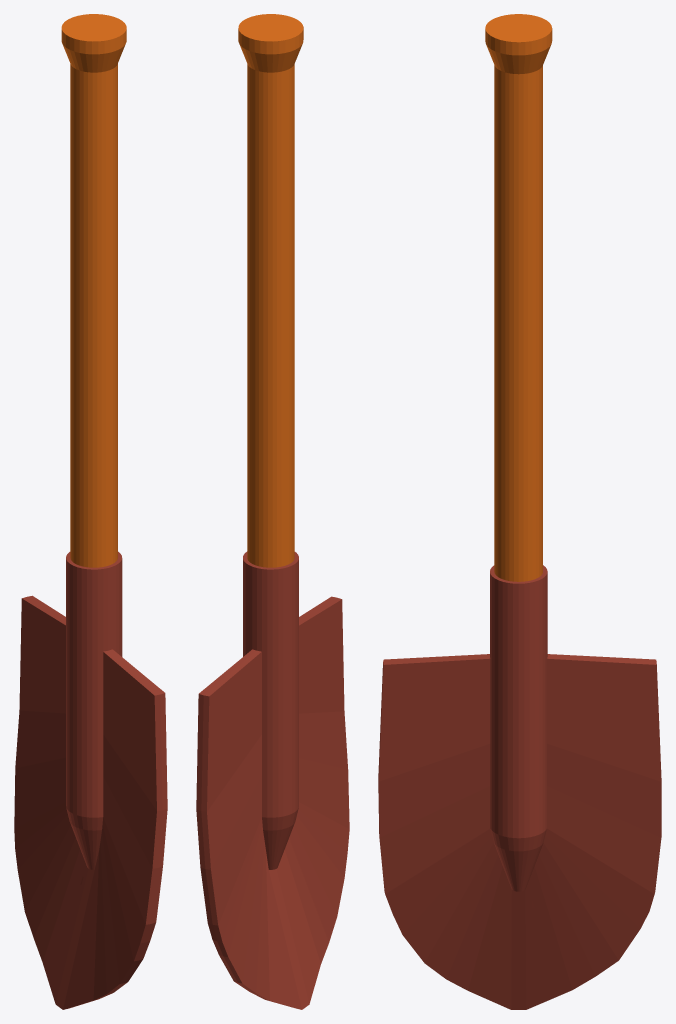
The model's file is pala.fbx.
The picture shows the model from 3 angles, left to right: view 1: azimuth 30°, elevation 25°; view 2: azimuth 150°, elevation 25°; view 3: azimuth 270°, elevation 25°; orthographic projection. The views are drawn at different scales.
Visible parts, largest first — view 1: pala; view 2: pala; view 3: pala.
Part boxes in pixels (x1=…): pala: x1=14, y1=14, x2=167, y2=1009; pala: x1=196, y1=14, x2=349, y2=1009; pala: x1=378, y1=14, x2=661, y2=1009.
Bounding box in the file's own units: 15.56 × 229 × 59.06.
